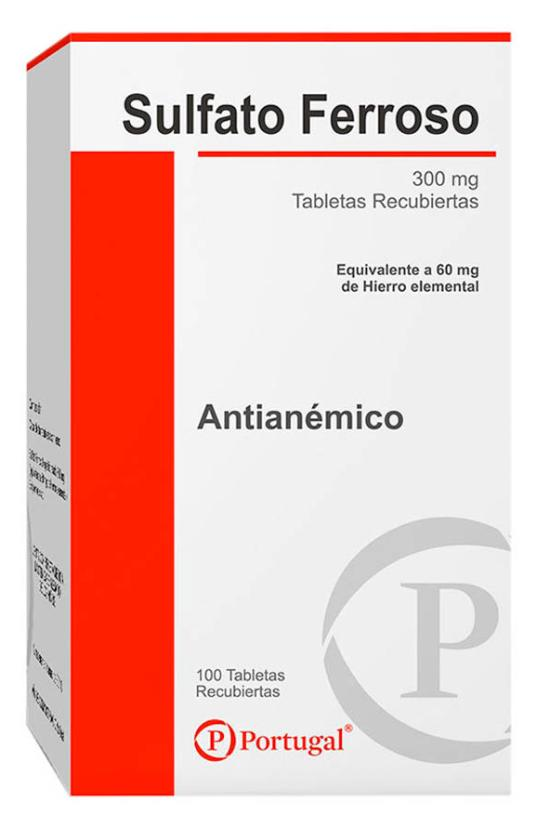brand: (240, 724, 348, 758)
extra_detail: (197, 399, 409, 435)
net_weight: (196, 664, 289, 700)
product_name: (112, 78, 486, 149)
